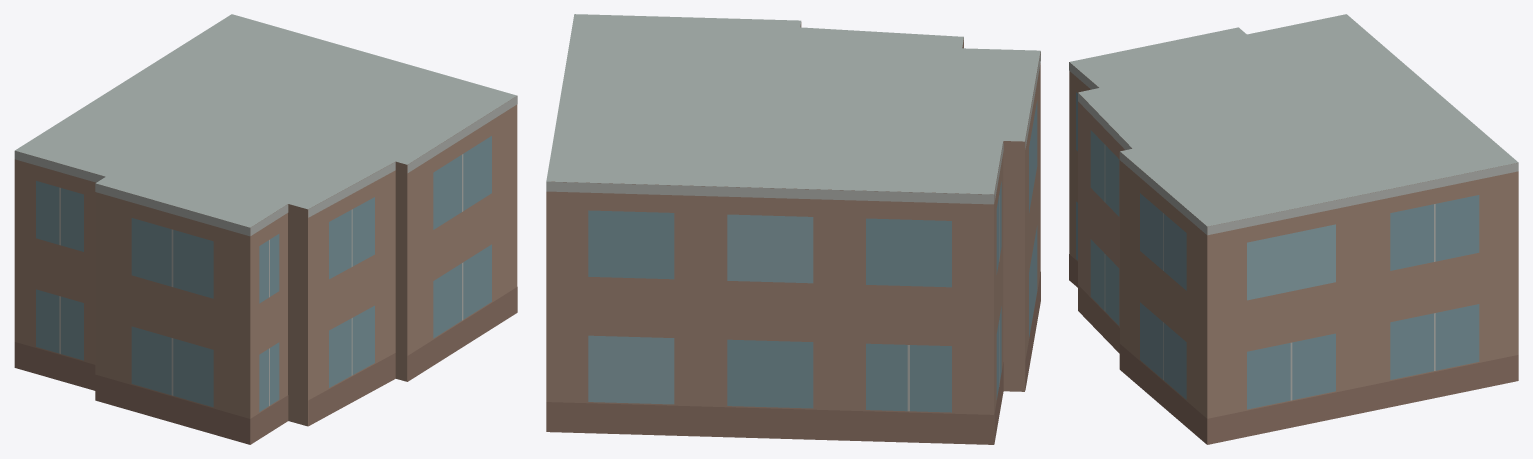
File: survey-upis-32702129.glb
The picture shows the model from 3 angles, left to right: view 1: azimuth 30°, elevation 25°; view 2: azimuth 150°, elevation 25°; view 3: azimuth 270°, elevation 25°; orthographic projection. The views are drawn at different scales.
Visible parts, largest first — view 1: survey-upis-32702129.tmp; view 2: survey-upis-32702129.tmp; view 3: survey-upis-32702129.tmp.
Part boxes in pixels (x1=…): survey-upis-32702129.tmp: x1=14, y1=14, x2=517, y2=444; survey-upis-32702129.tmp: x1=546, y1=14, x2=1040, y2=444; survey-upis-32702129.tmp: x1=1069, y1=14, x2=1518, y2=444.
Size of the model in its own units: 12.75 by 6.1 by 11.4.
